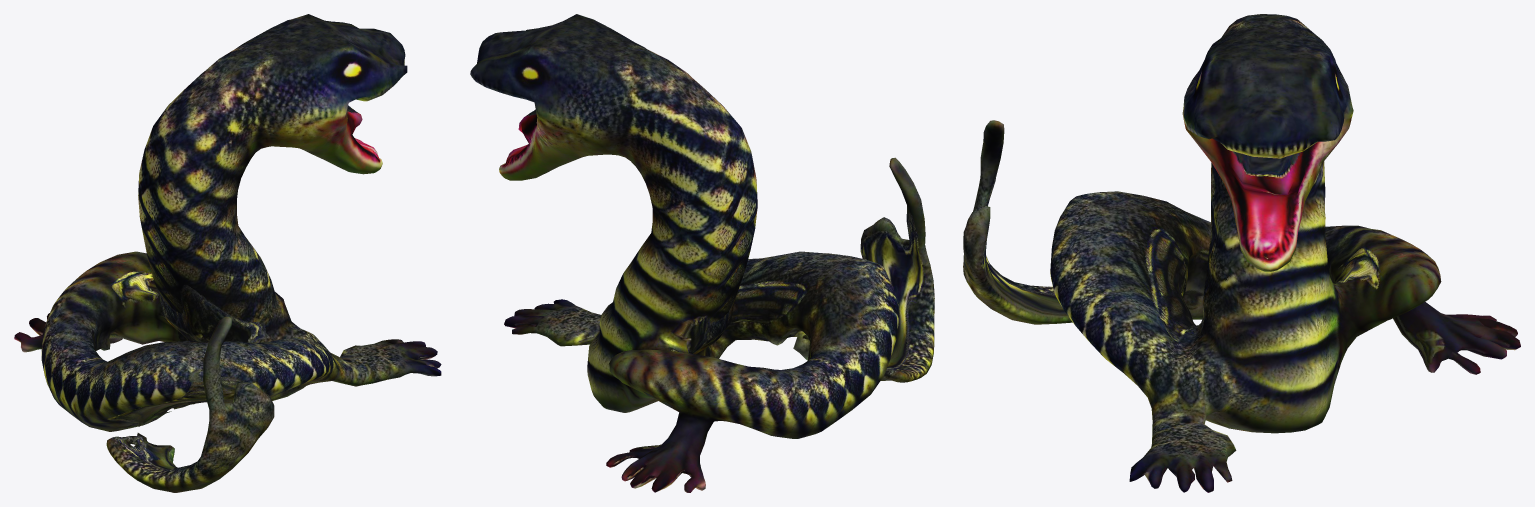
File: snake_with_dinosaur.glb
3 renders of one model, left to right at view 1: azimuth 30°, elevation 25°; view 2: azimuth 150°, elevation 25°; view 3: azimuth 270°, elevation 25°, orthographic. The views are drawn at different scales.
Parts seen in each view (by area): view 1: mesh; view 2: mesh; view 3: mesh.
Boxes of the visible parts, box(x1,y1,x2,y2) form: mesh: box(14, 14, 441, 492); mesh: box(470, 14, 934, 492); mesh: box(963, 14, 1520, 492).
Bounding box in the file's own units: 0.8898 × 0.8083 × 0.9943.
1 material, 1 textured.
